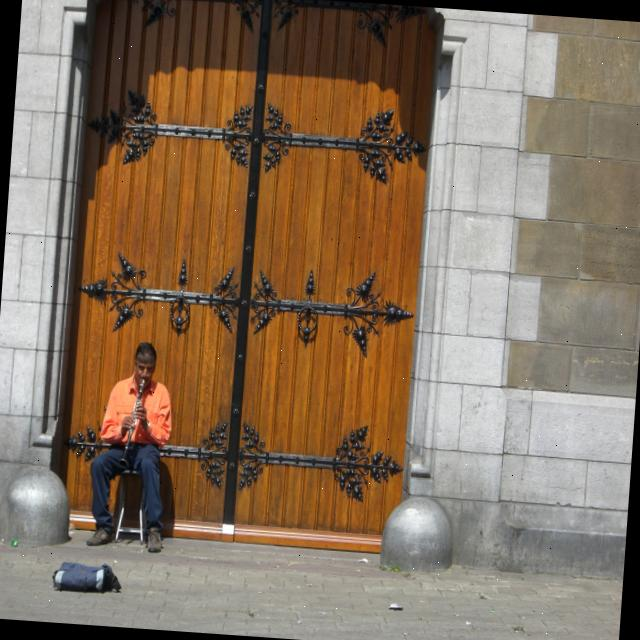clarinet: (118, 376, 145, 470)
